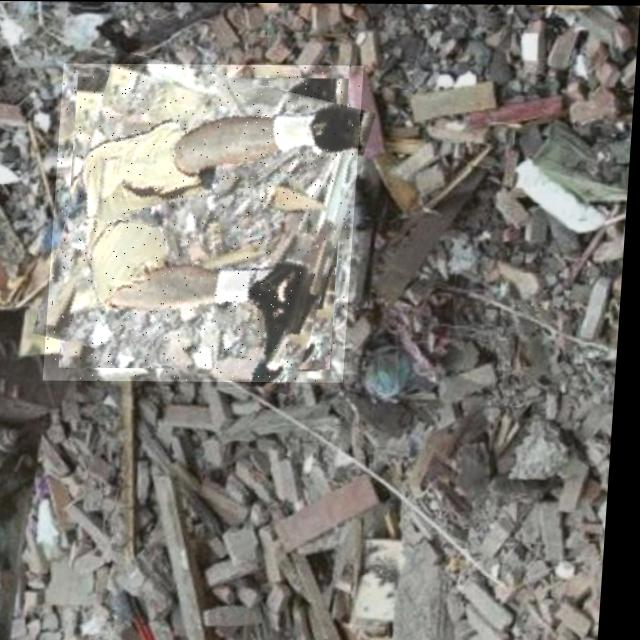Person in Rubble: (49, 62, 365, 381)
